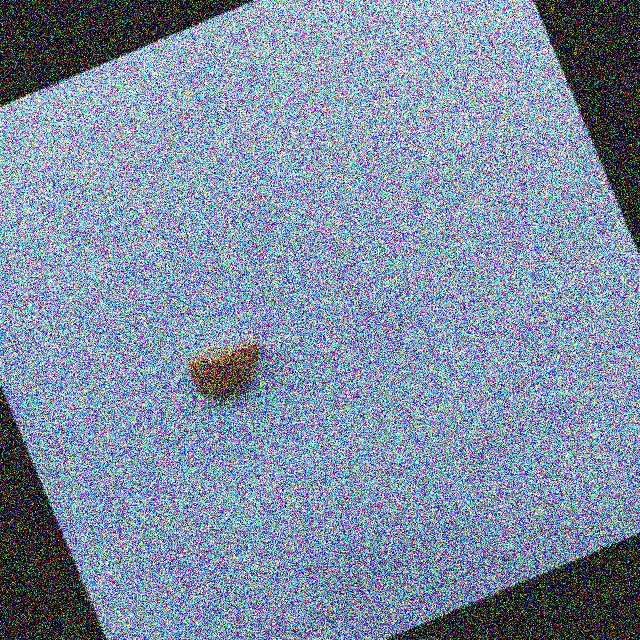grade4: (175, 323, 283, 416)
